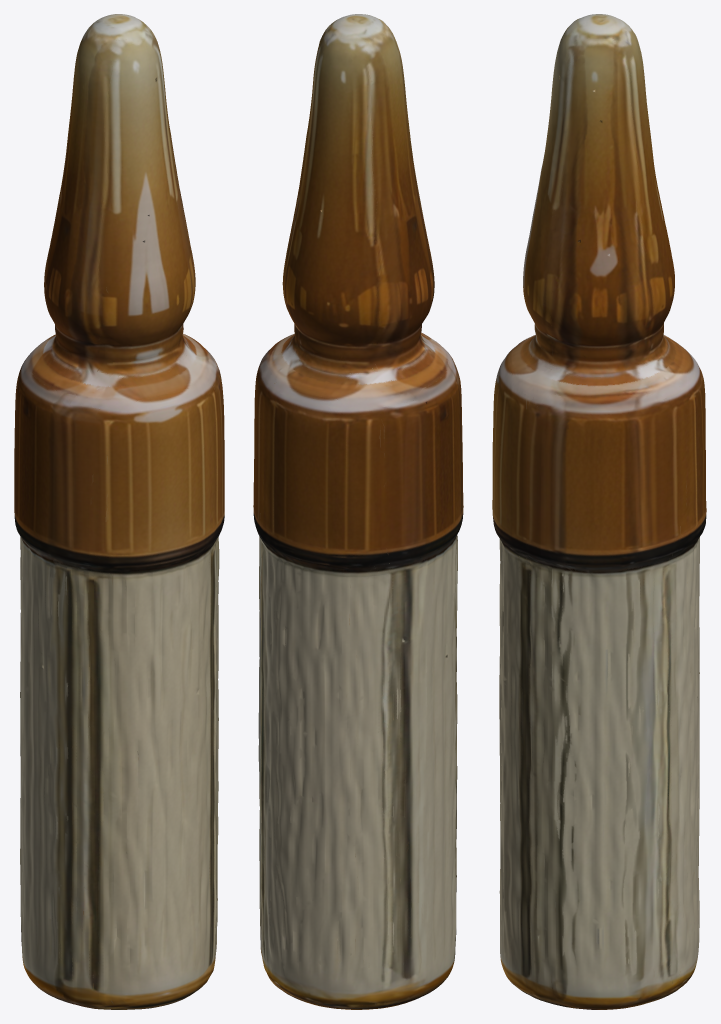
Rendered from Celebyx.obj.
3 renders of one model, left to right at view 1: azimuth 30°, elevation 25°; view 2: azimuth 150°, elevation 25°; view 3: azimuth 270°, elevation 25°, orthographic.
Visible parts, largest first — view 1: material_0; view 2: material_0; view 3: material_0.
Part boxes in pixels (x1,y1,x2,y2): material_0: [14, 14, 224, 1009]; material_0: [253, 14, 463, 1009]; material_0: [492, 14, 706, 1009].
Bounding box in the file's own units: 0.1991 × 1 × 0.2025.
